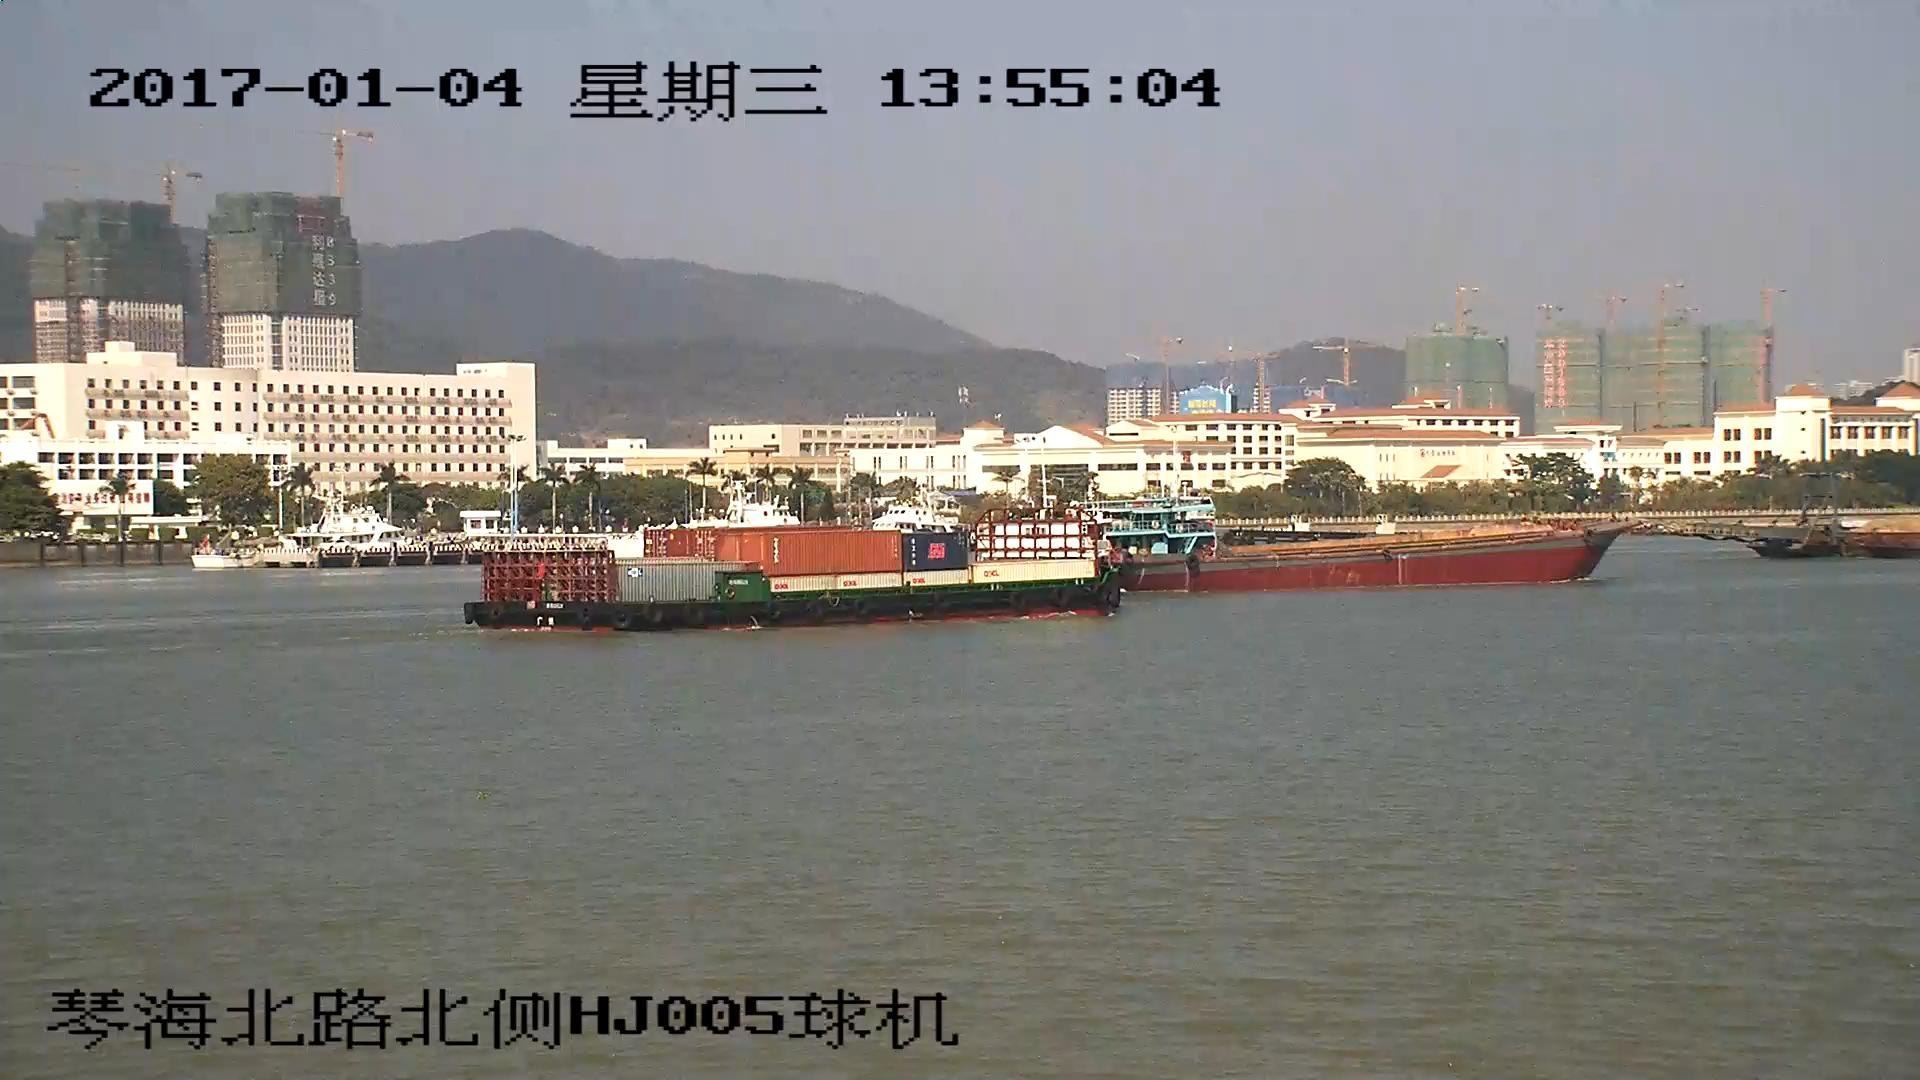bulk cargo carrier: (1117, 514, 1638, 593)
container ship: (465, 510, 1119, 630)
ore carrier: (1670, 503, 1920, 558)
